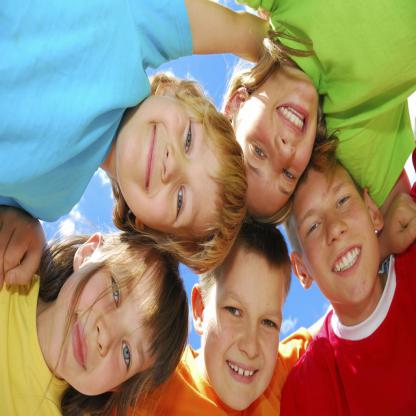face: (122, 93, 228, 241), (59, 257, 166, 399), (205, 249, 284, 412), (297, 166, 382, 307), (241, 68, 317, 212)
